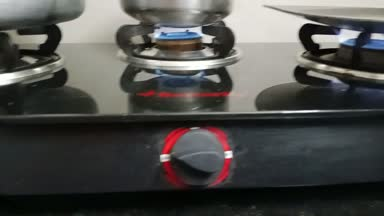flame_gas_on: (129, 19, 235, 187), (308, 19, 384, 77)
